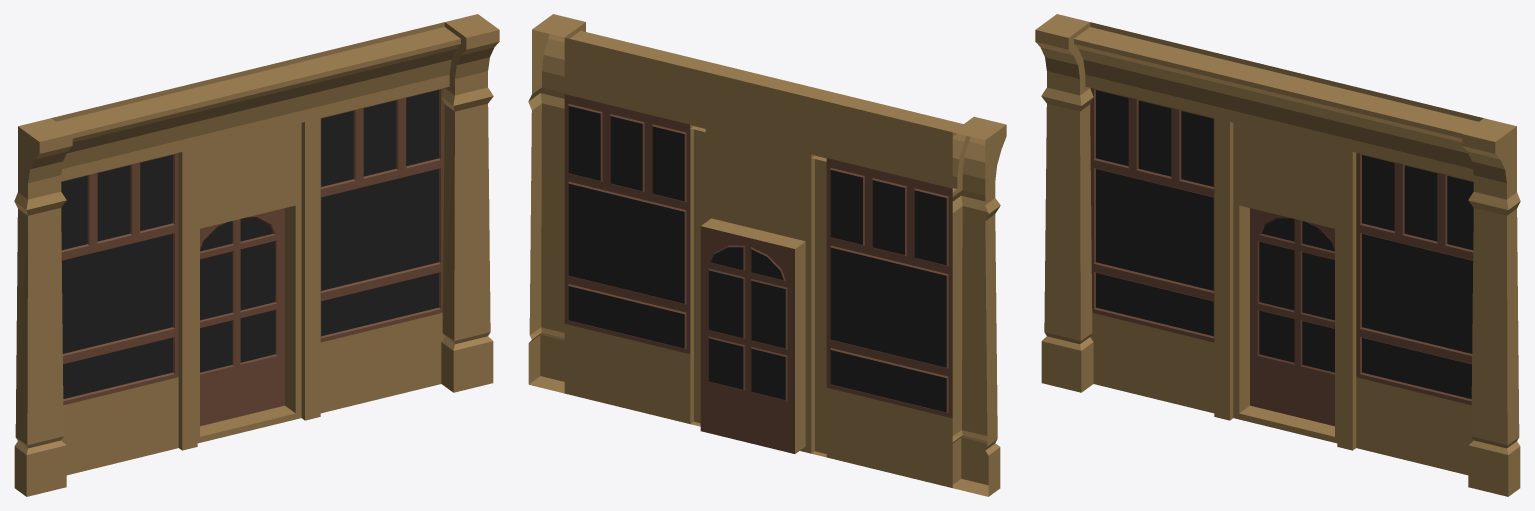
Rendered from ShopFrontC.fbx.
3 views of the same model, side by side, from view 1: azimuth 30°, elevation 25°; view 2: azimuth 150°, elevation 25°; view 3: azimuth 330°, elevation 25° (orthographic).
Parts seen in each view (by area): view 1: ShopFrontC; view 2: ShopFrontC; view 3: ShopFrontC.
Part boxes in pixels (x1=…): ShopFrontC: x1=14, y1=14, x2=499, y2=496; ShopFrontC: x1=528, y1=14, x2=1006, y2=496; ShopFrontC: x1=1035, y1=14, x2=1520, y2=496.
Size of the model in its own units: 406 by 300 by 49.67.
